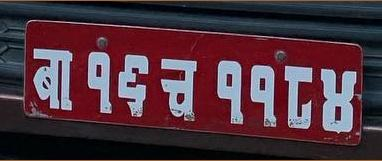1: (212, 59, 247, 125), (248, 64, 283, 130), (83, 50, 117, 116)
4: (319, 66, 363, 136)
6: (117, 52, 154, 119)
8: (283, 65, 317, 131)
ba: (30, 48, 79, 111)
cha: (157, 55, 209, 120)
